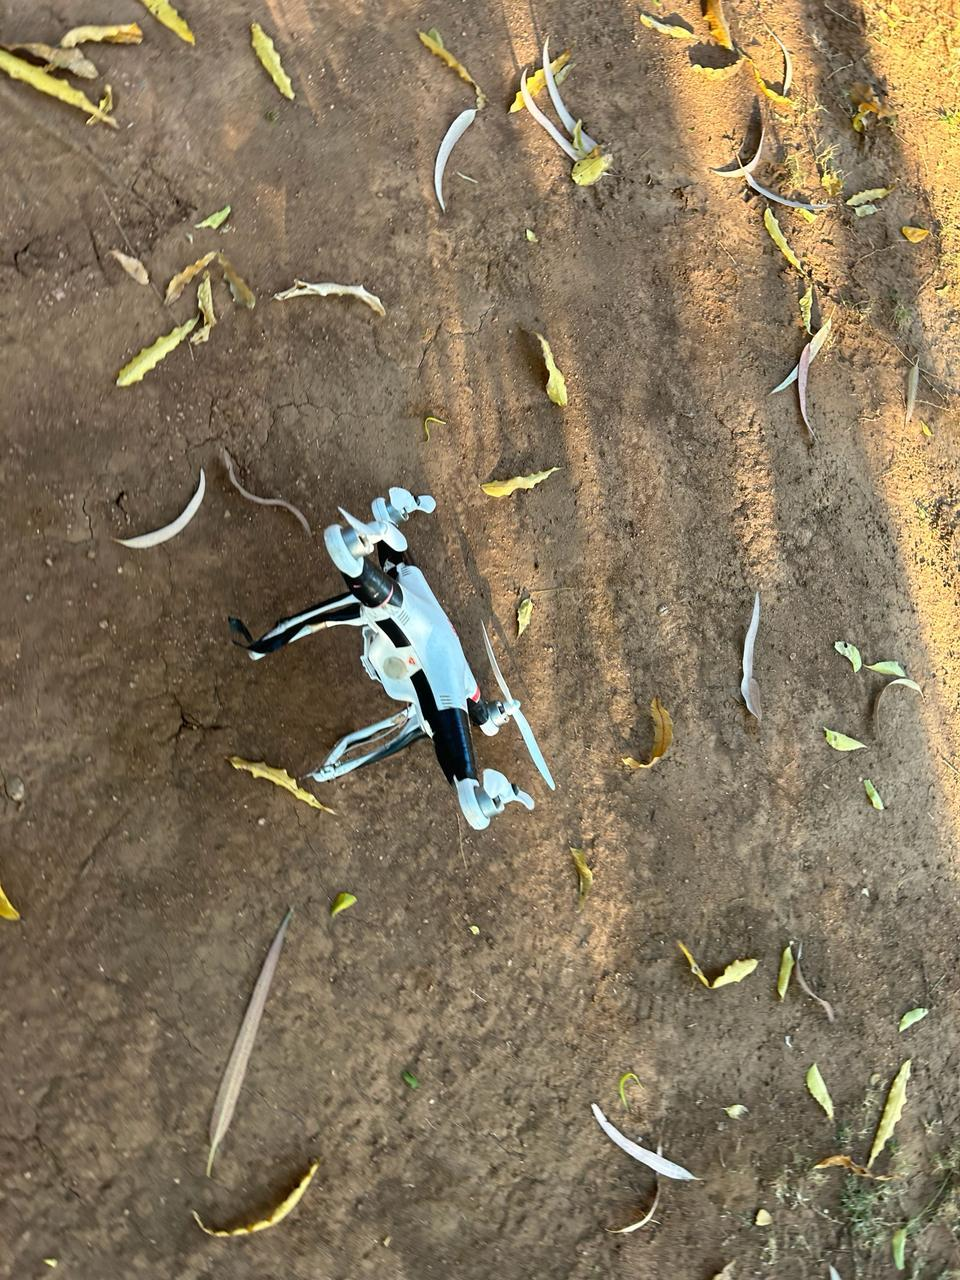drone: (144, 361, 714, 887)
